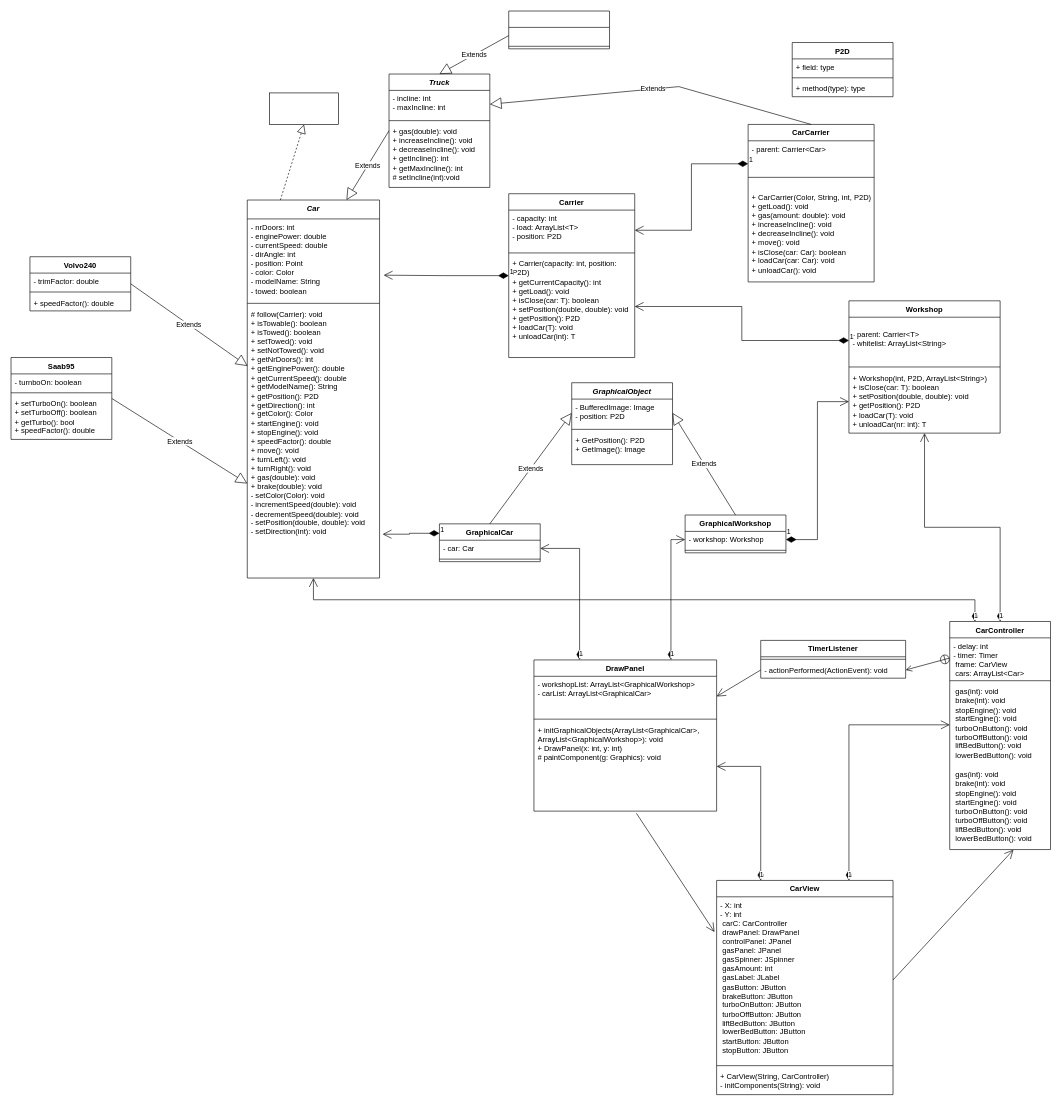
Image size: 1062x1108. Some labels were removed from this diagram. The shapes that lost their labels are listed below. From the top down, each one's centre as x and y in pixels, then its label:
At (x=559, y=29): "Scania".
At (x=304, y=108): "«interface» Movable".
